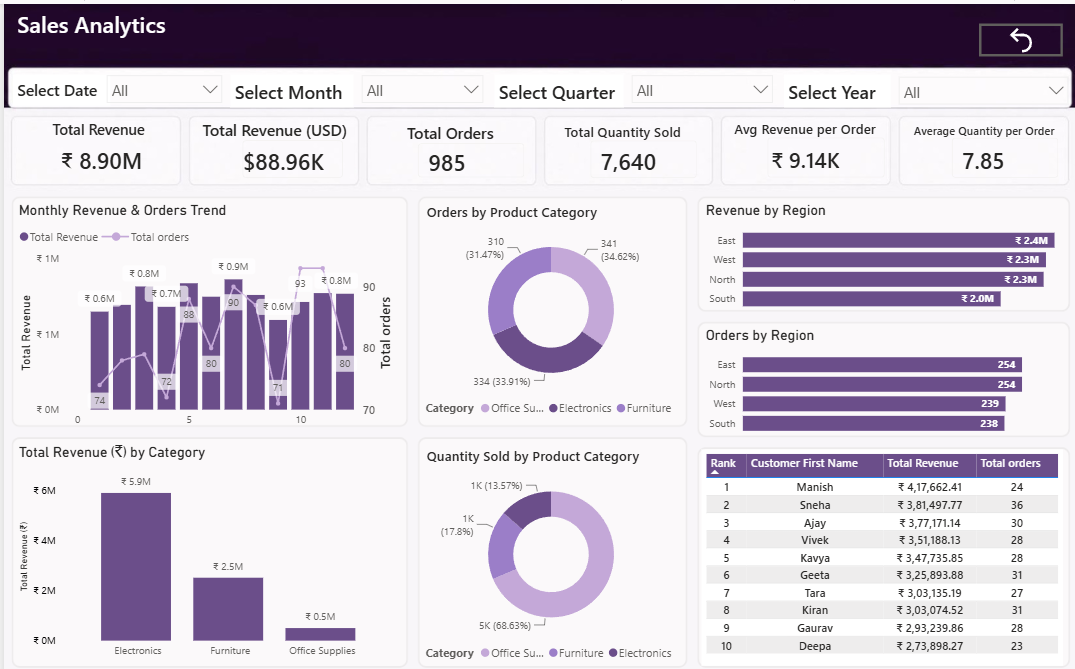

The page's visual inventory and layout, read from the dashboard file:
{"tool":"powerbi","page":{"name":"Page 1","canvas":[1280,810],"ordinal":0},"visuals":[{"type":"textbox","box":[10.7,0,279.2,48.3],"z":0},{"type":"group","id":"g1","title":"Group 1","box":[930.5,76.9,348.9,46.5],"z":1000},{"type":"textbox","box":[10.7,84.1,116.3,37.6],"z":1000,"group":"g4"},{"type":"group","id":"g2","title":"Group 2","box":[584.9,75.2,341.8,48.3],"z":2000},{"type":"textbox","box":[269.8,84.1,146.7,39.4],"z":2000,"group":"g3"},{"type":"textbox","box":[584.9,84.1,153.9,39.4],"z":3000,"group":"g2"},{"type":"group","id":"g3","title":"Group 3","box":[269.8,75.2,311.8,48.3],"z":4000},{"type":"textbox","box":[930.5,84.1,127.1,39.4],"z":4000,"group":"g1"},{"type":"slicer","fields":{"Values":["dirty_sales_data.Order_Date.Variation.Date Hierarchy.Month"]},"box":[416.9,75.2,164.6,46.5],"z":5000,"group":"g3"},{"type":"cardVisual","title":"Total Orders","fields":{"Data":["dirty_sales_data.total orders"]},"box":[438.4,141.4,187.9,71.6],"z":5000},{"type":"slicer","fields":{"Values":["dirty_sales_data.Order_Date"]},"box":[112.7,75.2,157.5,42.9],"z":6000,"group":"g4"},{"type":"cardVisual","title":"Total Revenue","fields":{"Data":["dirty_sales_data.Total Revenue"]},"box":[12.5,137.8,200.4,75.2],"z":6000},{"type":"slicer","fields":{"Values":["dirty_sales_data.Order_Date.Variation.Date Hierarchy.Quarter"]},"box":[738.8,75.2,187.9,48.3],"z":7000,"group":"g2"},{"type":"cardVisual","title":"Total Revenue (USD)","fields":{"Data":["dirty_sales_data.total revenue usd"]},"box":[229,137.8,187.9,75.2],"z":7000},{"type":"slicer","fields":{"Values":["dirty_sales_data.Order_Date.Variation.Date Hierarchy.Year"]},"box":[1057.6,76.9,221.9,46.5],"z":8000,"group":"g1"},{"type":"clusteredBarChart","title":"Revenue by Region","fields":{"Category":["dirty_sales_data.Region"],"Y":["dirty_sales_data.Total Revenue"]},"box":[832.1,236.2,447.4,128.8],"z":8000},{"type":"clusteredBarChart","title":"Orders by Region","fields":{"Category":["dirty_sales_data.Region"],"Y":["dirty_sales_data.Total orders"]},"box":[832.1,384.7,434.8,128.8],"z":9000},{"type":"cardVisual","title":"Total Quantity Sold","fields":{"Data":["dirty_sales_data.total quantity sold"]},"box":[644.2,141.4,187.9,71.6],"z":10000},{"type":"cardVisual","title":"Average Quantity per Order","fields":{"Data":["dirty_sales_data.Average_quantity_per_order"]},"box":[1075.5,141.4,187.9,71.6],"z":11000},{"type":"cardVisual","title":"Avg Revenue per Order","fields":{"Data":["dirty_sales_data.Avg revenue per order"]},"box":[855.4,137.8,200.4,75.2],"z":12000},{"type":"donutChart","title":"Orders by Product Category","fields":{"Category":["dirty_sales_data.Product Category"],"Y":["dirty_sales_data.Total orders"]},"box":[499.3,236.2,306,264.8],"z":13000},{"type":"donutChart","title":"Quantity Sold by Product Category","fields":{"Category":["dirty_sales_data.Product Category"],"Y":["dirty_sales_data.total quantity sold"]},"box":[499.3,527.9,306,264.8],"z":13001},{"type":"tableEx","fields":{"Values":["dirty_sales_data.Customer Rank","dirty_sales_data.first_name","dirty_sales_data.Total Revenue","dirty_sales_data.Total orders"]},"box":[832.1,531.5,431.3,257.7],"z":13002},{"type":"columnChart","fields":{"Y":["dirty_sales_data.Total Revenue"],"Category":["dirty_sales_data.Product Category"]},"box":[12.5,524.3,459.9,264.8],"z":13003},{"type":"lineStackedColumnComboChart","title":"Monthly Revenue & Orders Trend","fields":{"Y":["dirty_sales_data.Total Revenue"],"Category":["dirty_sales_data.Month"],"Y2":["dirty_sales_data.Total orders"]},"box":[12.5,236.2,459.9,277.4],"z":13004},{"type":"group","id":"g4","title":"Group 4","box":[10.7,75.2,259.5,46.5],"z":13005},{"type":"actionButton","box":[1163.1,23.3,100.2,39.4],"z":13006}]}

Visuals, with their boxes in screenshot pixels (x1, y1, x2, y2), scaled from the page's 1280x810 canvas onto the 1075x669 screenshot:
textbox: (9, 0, 243, 40)
"Group 1" group: (781, 64, 1074, 102)
textbox: (9, 69, 107, 101)
"Group 2" group: (491, 62, 778, 102)
textbox: (227, 69, 350, 102)
textbox: (491, 69, 620, 102)
"Group 3" group: (227, 62, 488, 102)
textbox: (781, 69, 888, 102)
slicer - dirty_sales_data.Order_Date.Variation.Date Hierarchy.Month: (350, 62, 488, 101)
"Total Orders" cardVisual: (368, 117, 526, 176)
slicer - dirty_sales_data.Order_Date: (95, 62, 227, 98)
"Total Revenue" cardVisual: (10, 114, 179, 176)
slicer - dirty_sales_data.Order_Date.Variation.Date Hierarchy.Quarter: (620, 62, 778, 102)
"Total Revenue (USD)" cardVisual: (192, 114, 350, 176)
slicer - dirty_sales_data.Order_Date.Variation.Date Hierarchy.Year: (888, 64, 1074, 102)
"Revenue by Region" clusteredBarChart: (699, 195, 1074, 301)
"Orders by Region" clusteredBarChart: (699, 318, 1064, 424)
"Total Quantity Sold" cardVisual: (541, 117, 699, 176)
"Average Quantity per Order" cardVisual: (903, 117, 1061, 176)
"Avg Revenue per Order" cardVisual: (718, 114, 887, 176)
"Orders by Product Category" donutChart: (419, 195, 676, 414)
"Quantity Sold by Product Category" donutChart: (419, 436, 676, 655)
tableEx - dirty_sales_data.Customer Rank x dirty_sales_data.first_name: (699, 439, 1061, 652)
columnChart - dirty_sales_data.Total Revenue x dirty_sales_data.Product Category: (10, 433, 397, 652)
"Monthly Revenue & Orders Trend" lineStackedColumnComboChart: (10, 195, 397, 424)
"Group 4" group: (9, 62, 227, 101)
actionButton: (977, 19, 1061, 52)
